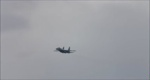maybay_muctieu: (53, 44, 75, 55)
